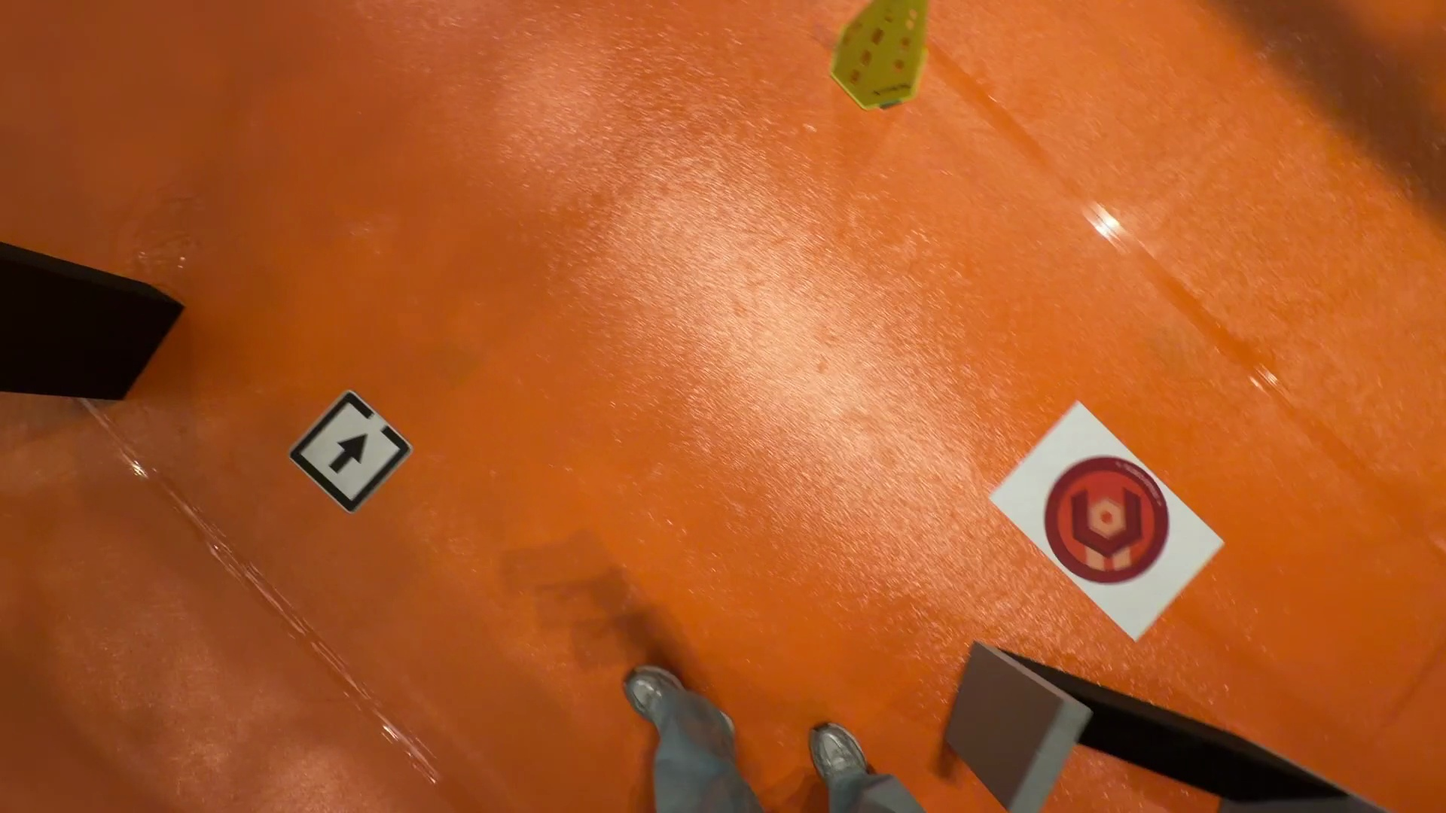landing_pad: (1042, 455, 1174, 585)
